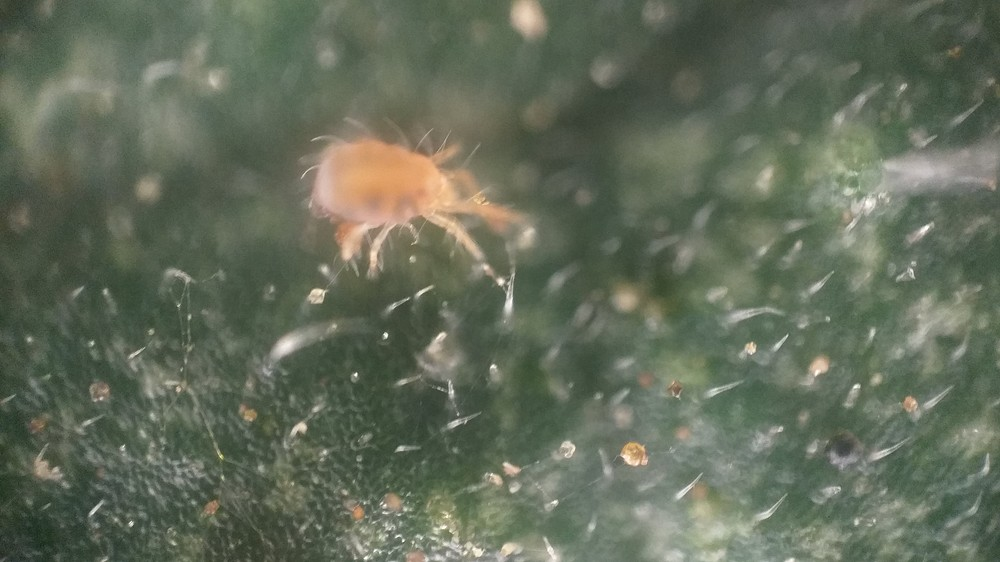Aracnido Rojo: (288, 102, 556, 286)
